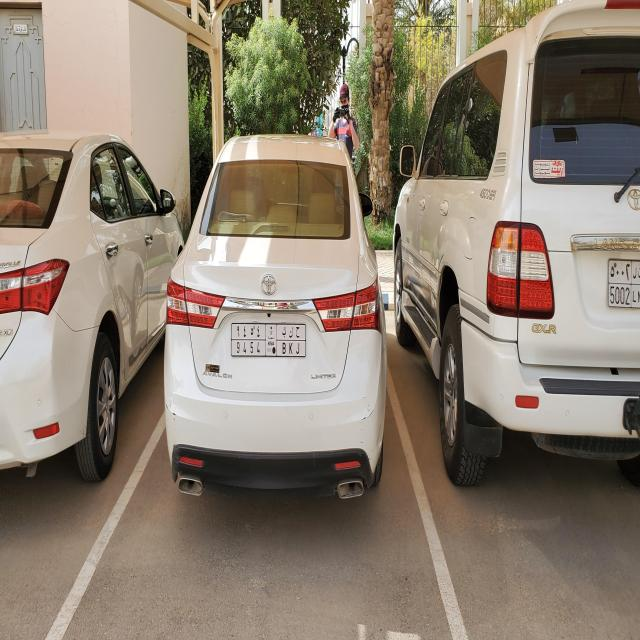license_plate: (230, 322, 306, 358)
